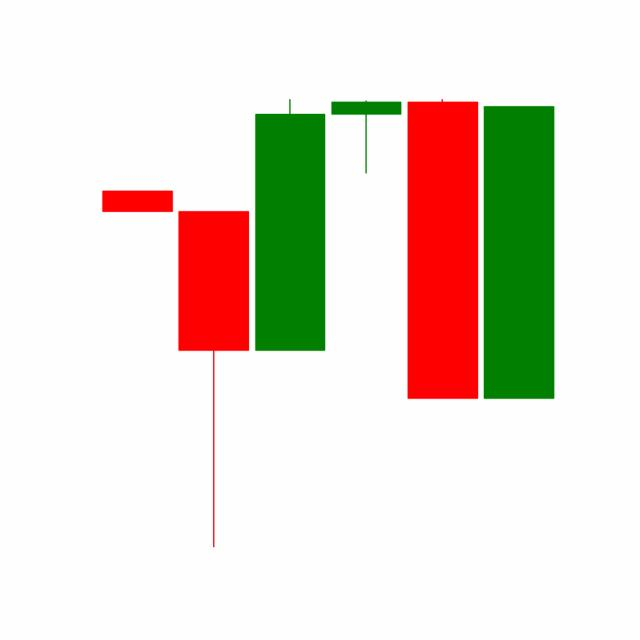Marubozu: (403, 96, 481, 402)
